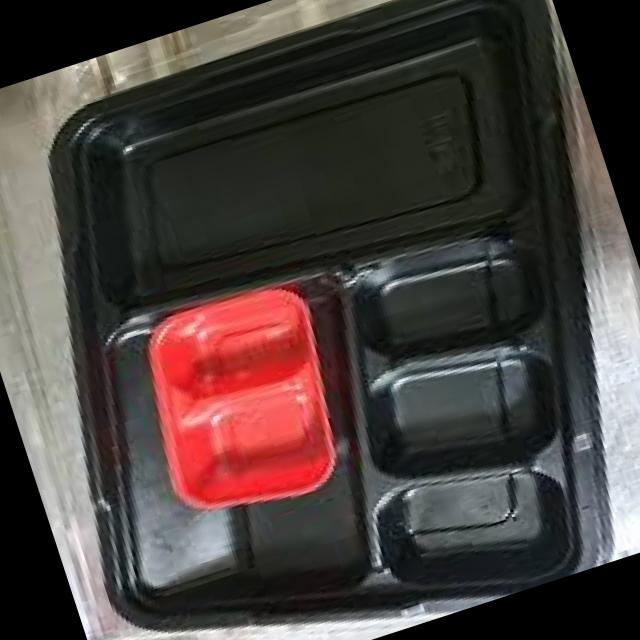plastic-bag: (0, 0, 640, 640)
plastic-bowl: (119, 270, 370, 533)
